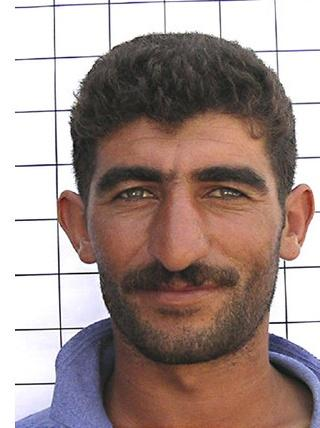No Mask: (43, 50, 318, 378)
